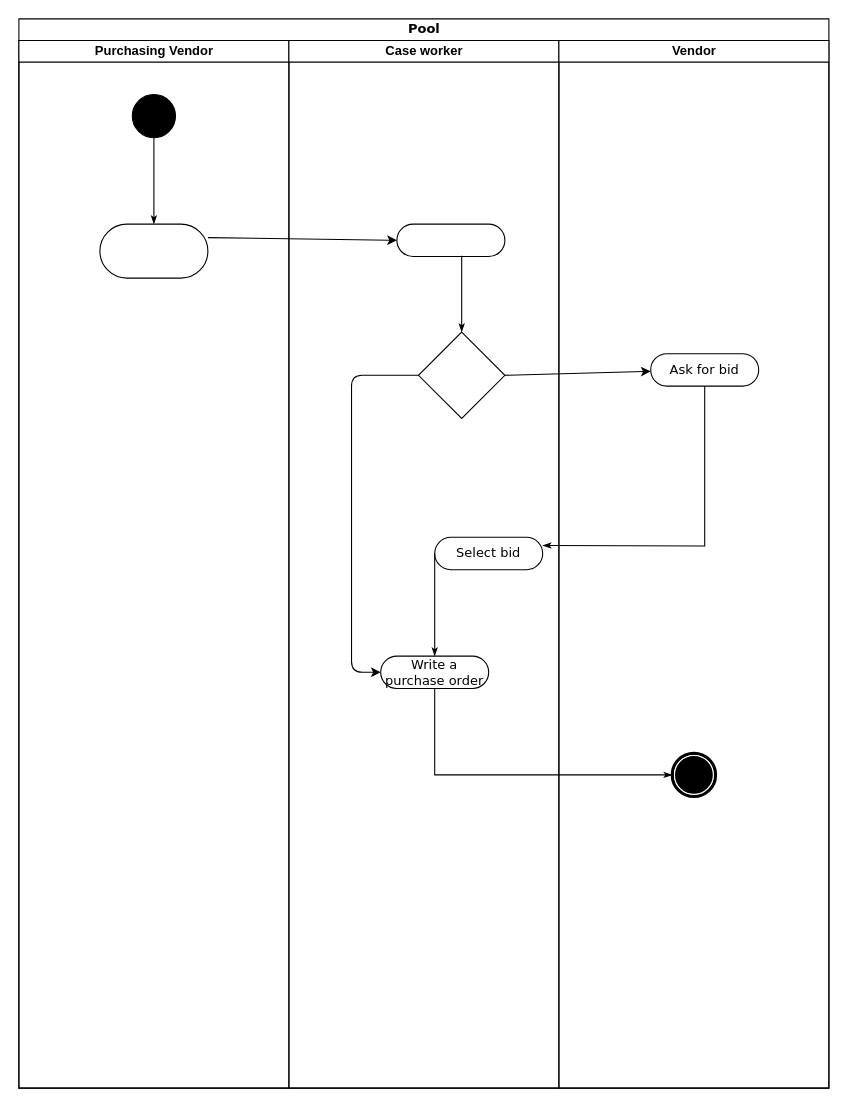
The diagram is 848 pixels wide and 1107 high, and some of its shapes have lost their labels. The centre of each missing label's shape, as x and y in pixels:
"If product > 1500" goes at [461,374].
"Initiate purchase request" goes at [153,250].
"Monitor requests" goes at [450,239].
